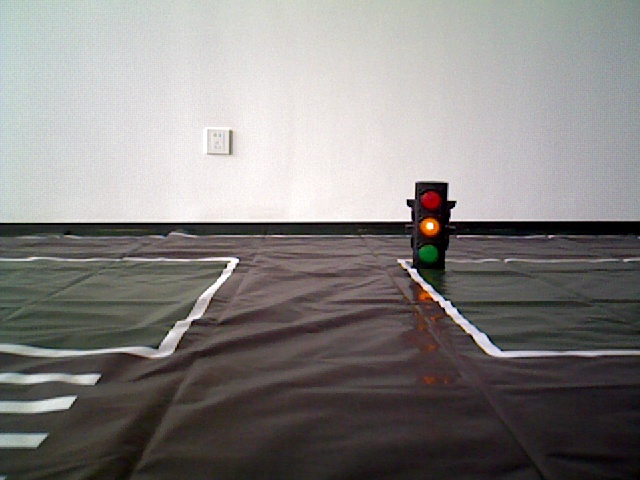yellow: (409, 176, 449, 269)
